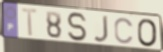8: (45, 11, 64, 40)
C: (114, 17, 135, 45)
J: (92, 15, 110, 44)
O: (136, 18, 159, 49)
S: (66, 11, 90, 43)
T: (20, 7, 41, 39)
